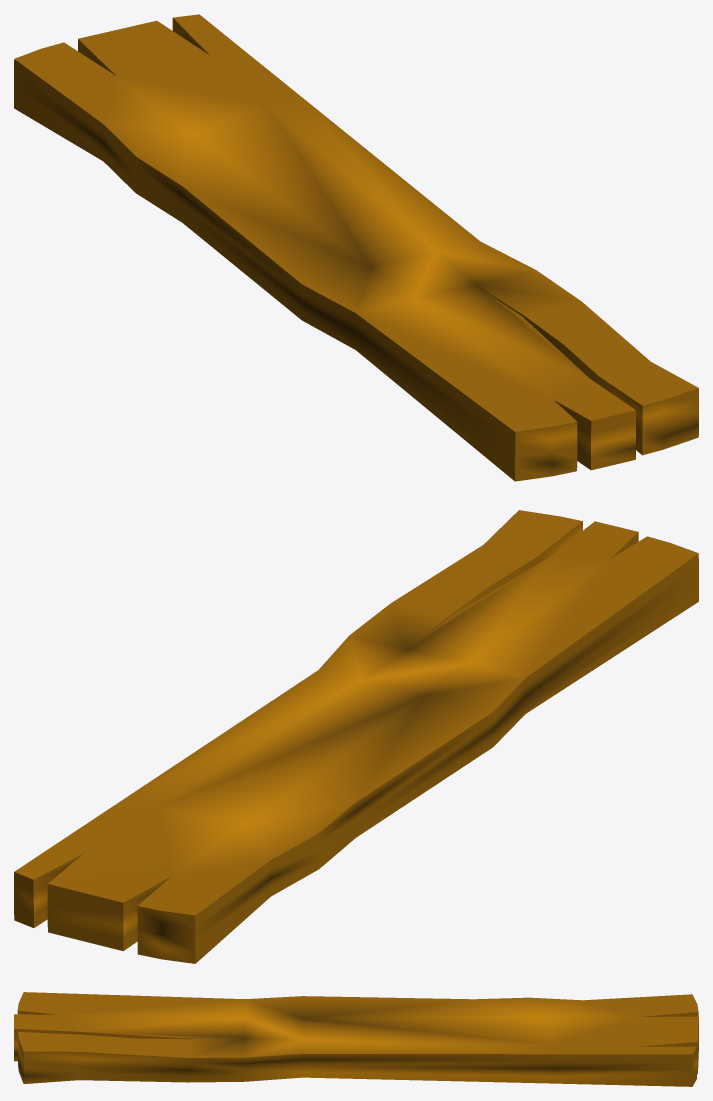
File: Plank2_1.2.fbx
The picture shows the model from 3 angles, top to bottom: view 1: azimuth 30°, elevation 25°; view 2: azimuth 150°, elevation 25°; view 3: azimuth 270°, elevation 25°; orthographic projection. The views are drawn at different scales.
Parts seen in each view (by area): view 1: Plank2; view 2: Plank2; view 3: Plank2.
Part boxes in pixels (<box>): Plank2: <box>14,14,698,481</box>; Plank2: <box>14,510,698,963</box>; Plank2: <box>14,992,698,1086</box>.
Size of the model in its own units: 46.36 by 11.52 by 216.
